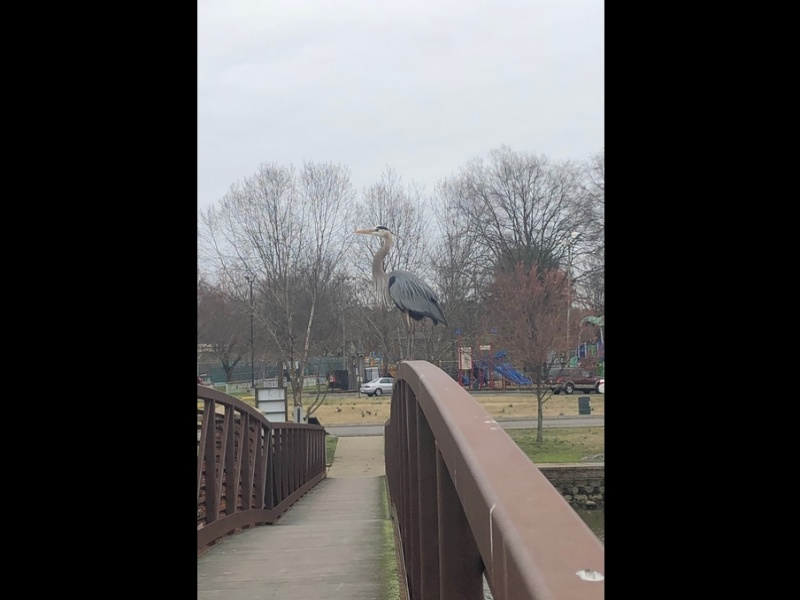heron: (357, 223, 448, 362)
